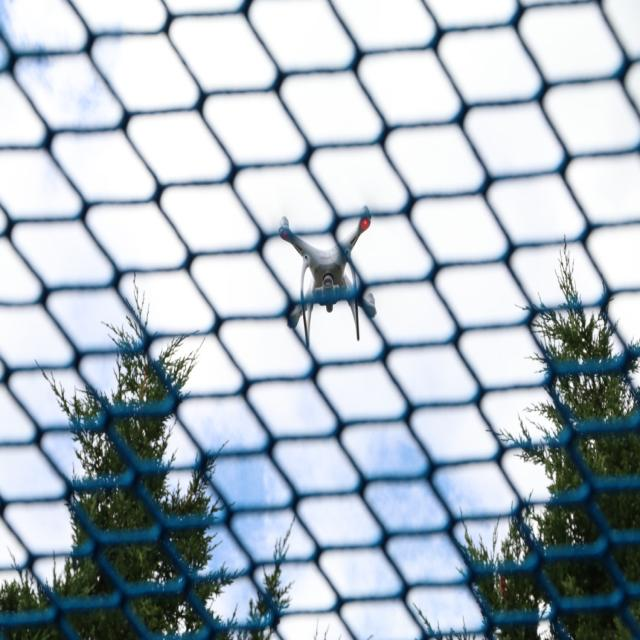drone: (260, 197, 396, 335)
